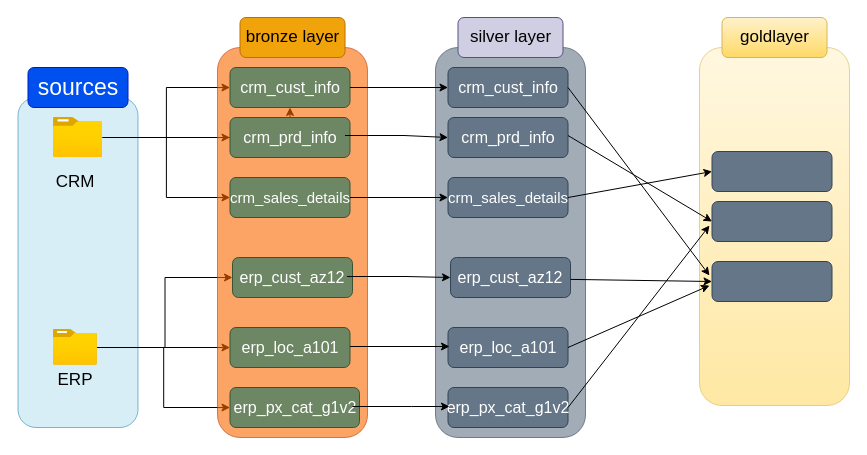
Image size: 867x455. Some labels were removed from this diagram. Each missing label, with the centre of its shape:
"dim_customer" goes at pixel 771 281.
"dim_products" goes at pixel 771 221.
"fact_sales" goes at pixel 771 171.
